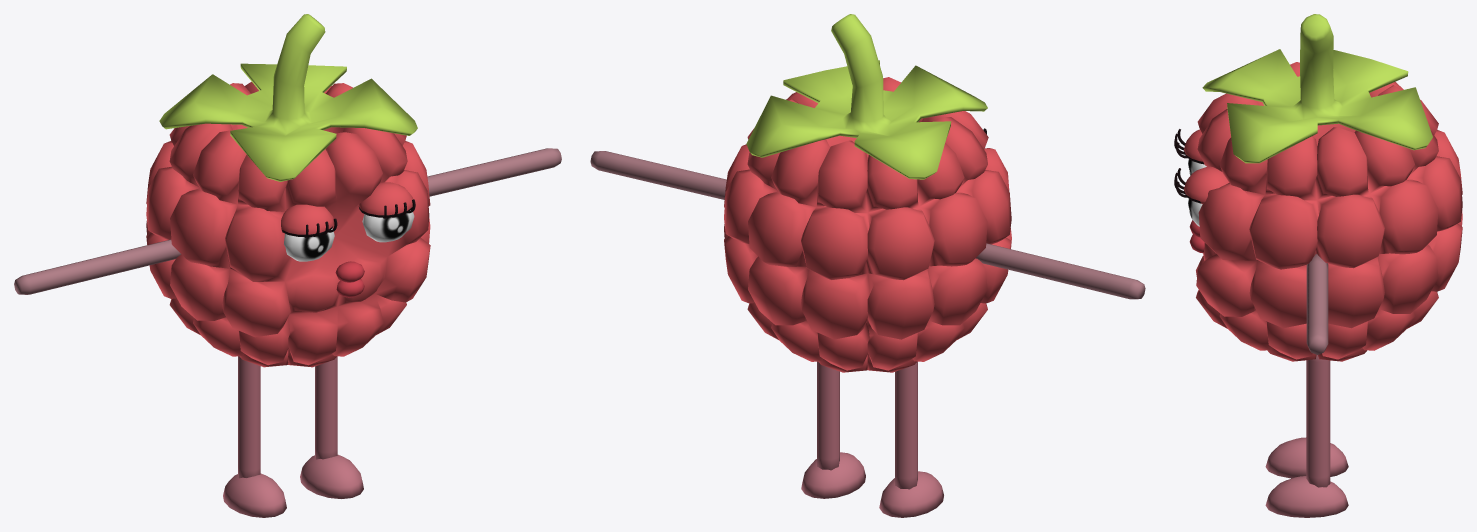
File: raspberry22.fbx
3 views of the same model, side by side, from view 1: azimuth 30°, elevation 25°; view 2: azimuth 150°, elevation 25°; view 3: azimuth 270°, elevation 25° (orthographic). The views are drawn at different scales.
Parts seen in each view (by area): view 1: Raspberry; view 2: Raspberry; view 3: Raspberry.
Part boxes in pixels (bbox=[...]): Raspberry: bbox=[14, 14, 561, 517]; Raspberry: bbox=[590, 14, 1145, 517]; Raspberry: bbox=[1174, 14, 1462, 517].
Bounding box in the file's own units: 190 × 158 × 85.8.
10 materials, 1 textured.
